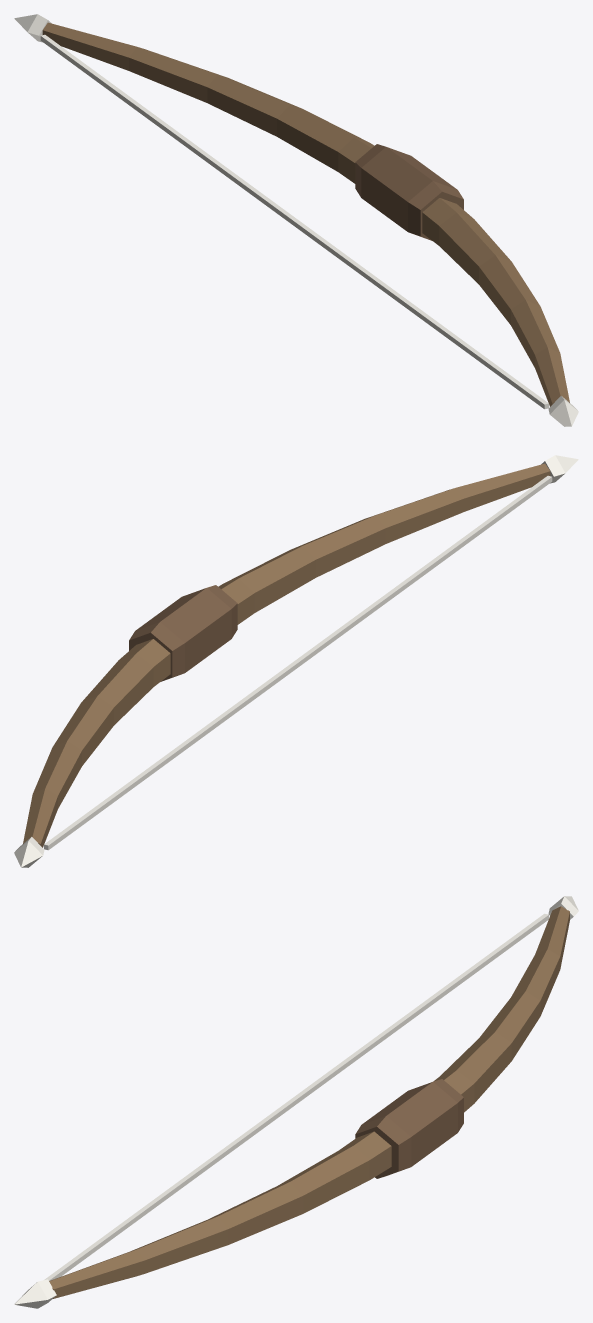
File: hunterbow.glb
3 views of the same model, one above another, from view 1: azimuth 30°, elevation 25°; view 2: azimuth 150°, elevation 25°; view 3: azimuth 330°, elevation 25° (orthographic).
Visible parts, largest first — view 1: hunterbow; view 2: hunterbow; view 3: hunterbow.
Part boxes in pixels (left/top/right/bottom): hunterbow: left=14, top=14, right=578, bottom=426; hunterbow: left=14, top=455, right=578, bottom=867; hunterbow: left=14, top=896, right=578, bottom=1308.
Bounding box in the file's own units: 0.1806 × 0.0713 × 1.2.
